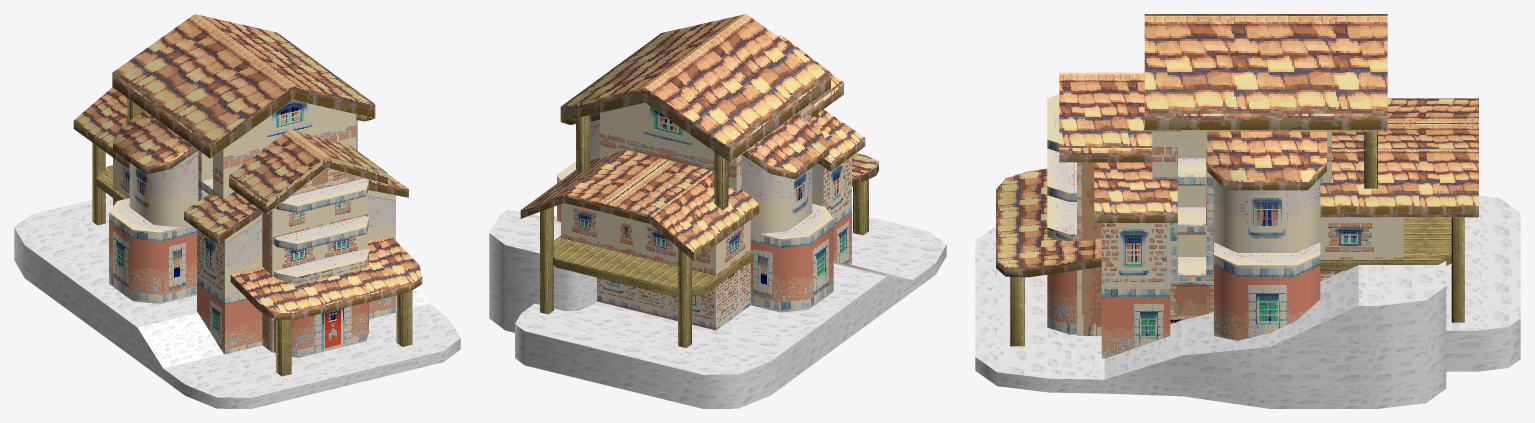
Rendered from SNOWTELtextured.gltf.
The picture shows the model from 3 angles, left to right: view 1: azimuth 30°, elevation 25°; view 2: azimuth 150°, elevation 25°; view 3: azimuth 270°, elevation 25°; orthographic projection. The views are drawn at different scales.
Parts seen in each view (by area): view 1: Cube.007, Cube.004, Cube.013, Cube.006, Cube.009, Cube.003, Cube.002, Cube.005, Cube.017, Cube.011, Cube.008, Cube.012 (+6 smaller); view 2: Cube.007, Cube.004, Cube.012, Cube.013, Cube.010, Cube.005, Cube.015, Cube.011, Cube.006, Cube.020, Cube.008, Cube.019 (+3 smaller); view 3: Cube.007, Cube.004, Cube.012, Cube.013, Cube.005, Cube.006, Cube.003, Cube.009, Cube.011, Cube.008, Cube.010, Cube.002 (+7 smaller).
Boxes of the visible parts, x1,y1,x2,y2 form: Cube.007: (14, 195, 460, 408); Cube.004: (112, 14, 375, 158); Cube.013: (109, 120, 357, 303); Cube.006: (197, 190, 395, 354); Cube.009: (230, 235, 422, 319); Cube.003: (229, 129, 387, 214); Cube.002: (262, 168, 367, 352); Cube.005: (198, 100, 356, 201); Cube.017: (274, 248, 368, 357); Cube.011: (113, 111, 373, 174); Cube.008: (184, 174, 408, 244); Cube.012: (73, 87, 143, 169); Cube.007: (489, 210, 946, 408); Cube.004: (560, 14, 830, 162); Cube.012: (520, 150, 759, 260); Cube.013: (557, 120, 833, 312); Cube.010: (561, 203, 750, 330); Cube.005: (600, 102, 811, 192); Cube.015: (553, 235, 753, 296); Cube.011: (561, 113, 829, 179); Cube.006: (812, 156, 851, 264); Cube.020: (540, 207, 691, 347); Cube.008: (811, 109, 865, 171); Cube.019: (576, 115, 728, 210); Cube.007: (975, 195, 1520, 408); Cube.004: (1144, 14, 1387, 131); Cube.012: (1320, 98, 1478, 217); Cube.013: (1214, 178, 1320, 340); Cube.005: (1152, 131, 1331, 324); Cube.006: (1101, 223, 1170, 358); Cube.003: (1059, 72, 1152, 162); Cube.009: (996, 168, 1101, 277); Cube.011: (1207, 131, 1326, 190); Cube.008: (1094, 162, 1177, 222); Cube.010: (1320, 217, 1403, 280); Cube.002: (1077, 162, 1101, 335).
Bounding box in the file's own units: 48.06 × 38.75 × 62.83.
4 materials, 4 textured.
